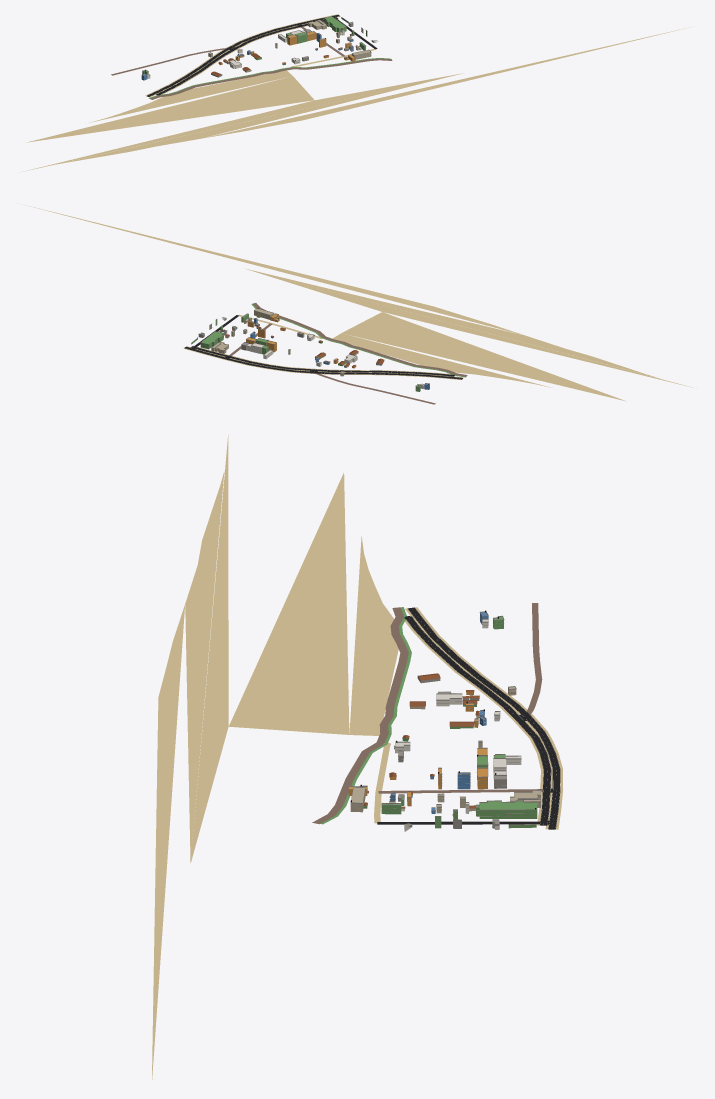
Rendered from zone_t-1_-1.glb.
3 views of the same model, one above another, from view 1: azimuth 30°, elevation 25°; view 2: azimuth 150°, elevation 25°; view 3: azimuth 270°, elevation 25° (orthographic). The views are drawn at different scales.
Parts seen in each view (by area): view 1: zone_plage_t-1_-1, route_secondary_bitume_t-1_-1, accotement_t-1_-1, promenade_t-1_-1, parapet_t-1_-1, bld_peinture_vert_t-1_-1-col, bld_peinture_ecaillee_t-1_-1-col, bld_peinture_ocre_t-1_-1-col, piste_cyclable_t-1_-1, route_residential_paves_t-1_-1, bld_peinture_blanc_t-1_-1-col; view 2: zone_plage_t-1_-1, route_secondary_bitume_t-1_-1, accotement_t-1_-1, parapet_t-1_-1, promenade_t-1_-1, bld_peinture_vert_t-1_-1-col, bld_peinture_ecaillee_t-1_-1-col, bld_peinture_blanc_t-1_-1-col, bld_peinture_ocre_t-1_-1-col, route_residential_paves_t-1_-1; view 3: zone_plage_t-1_-1, route_secondary_bitume_t-1_-1, promenade_t-1_-1, bld_peinture_vert_t-1_-1-col, accotement_t-1_-1, parapet_t-1_-1, route_residential_paves_t-1_-1, bld_peinture_blanc_t-1_-1-col, bld_peinture_ecaillee_t-1_-1-col.
Part boxes in pixels (bbox=[...]): zone_plage_t-1_-1: bbox=[22, 27, 689, 171]; route_secondary_bitume_t-1_-1: bbox=[146, 14, 339, 96]; accotement_t-1_-1: bbox=[145, 14, 340, 97]; promenade_t-1_-1: bbox=[150, 58, 392, 99]; parapet_t-1_-1: bbox=[142, 16, 371, 76]; bld_peinture_vert_t-1_-1-col: bbox=[142, 16, 367, 74]; bld_peinture_ecaillee_t-1_-1-col: bbox=[208, 20, 371, 72]; bld_peinture_ocre_t-1_-1-col: bbox=[218, 31, 355, 65]; piste_cyclable_t-1_-1: bbox=[148, 58, 390, 98]; route_residential_paves_t-1_-1: bbox=[111, 26, 345, 75]; bld_peinture_blanc_t-1_-1-col: bbox=[147, 30, 361, 78]; zone_plage_t-1_-1: bbox=[25, 205, 693, 401]; route_secondary_bitume_t-1_-1: bbox=[184, 346, 462, 379]; accotement_t-1_-1: bbox=[183, 345, 463, 379]; parapet_t-1_-1: bbox=[191, 308, 429, 387]; promenade_t-1_-1: bbox=[252, 303, 467, 376]; bld_peinture_vert_t-1_-1-col: bbox=[191, 314, 420, 391]; bld_peinture_ecaillee_t-1_-1-col: bbox=[211, 308, 358, 376]; bld_peinture_blanc_t-1_-1-col: bbox=[224, 319, 424, 388]; bld_peinture_ocre_t-1_-1-col: bbox=[246, 314, 356, 368]; route_residential_paves_t-1_-1: bbox=[229, 323, 435, 404]; zone_plage_t-1_-1: bbox=[152, 435, 398, 1079]; route_secondary_bitume_t-1_-1: bbox=[404, 607, 560, 829]; promenade_t-1_-1: bbox=[312, 607, 408, 824]; bld_peinture_vert_t-1_-1-col: bbox=[363, 616, 537, 828]; accotement_t-1_-1: bbox=[405, 607, 563, 829]; parapet_t-1_-1: bbox=[348, 611, 540, 825]; route_residential_paves_t-1_-1: bbox=[378, 603, 542, 793]; bld_peinture_blanc_t-1_-1-col: bbox=[395, 619, 521, 813]; bld_peinture_ecaillee_t-1_-1-col: bbox=[350, 687, 540, 813].
Bounding box in the file's own units: 1456 × 17 × 388.
